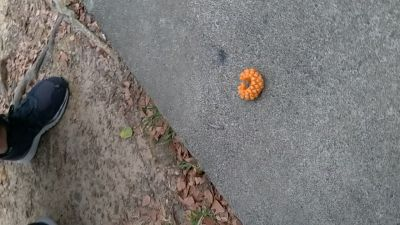eggs: (239, 69, 265, 103)
